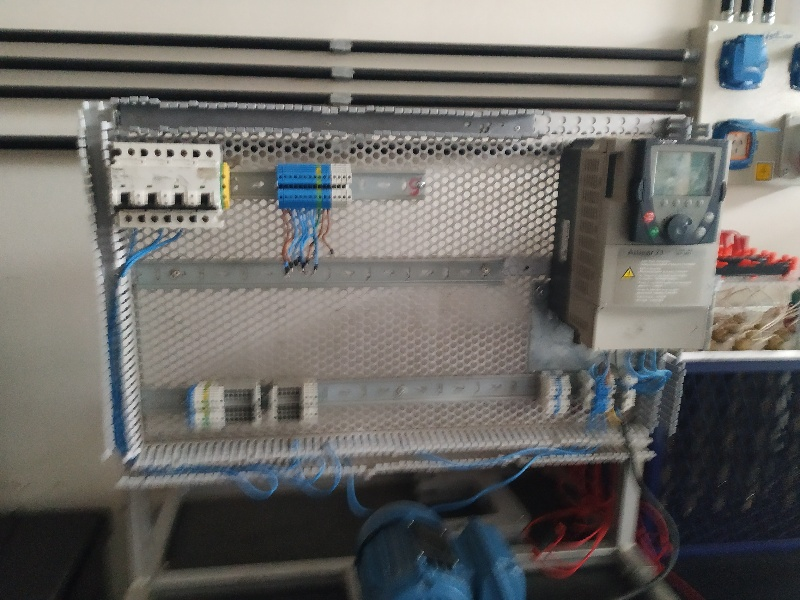Tablero 0: (97, 100, 726, 479)
